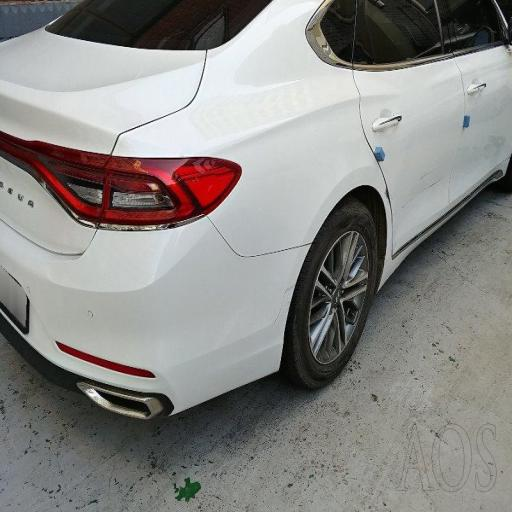scratch: (332, 57, 452, 238)
